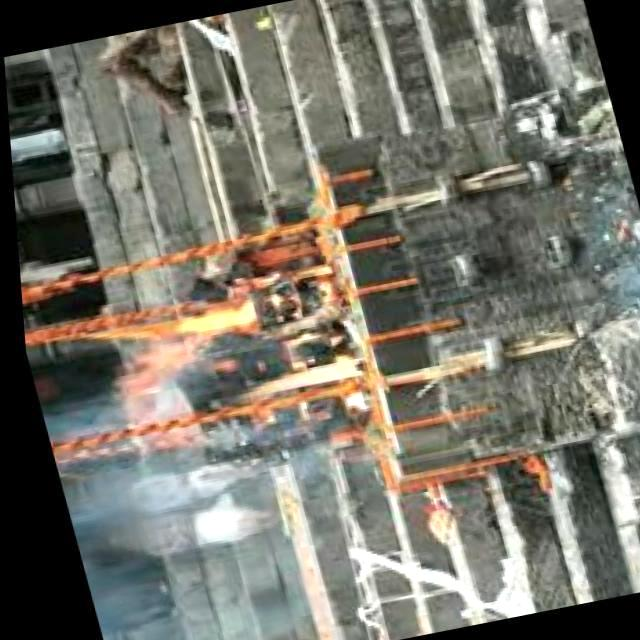fire: (91, 287, 272, 393), (225, 344, 373, 428)
